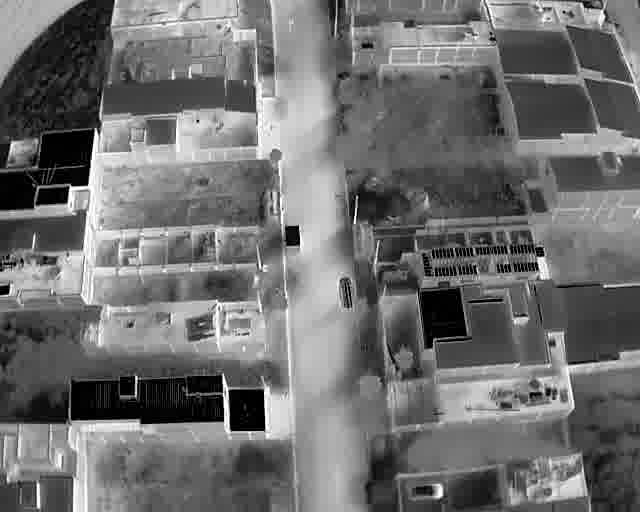car: (337, 274, 357, 311), (408, 483, 443, 502)
person: (288, 13, 294, 33)
